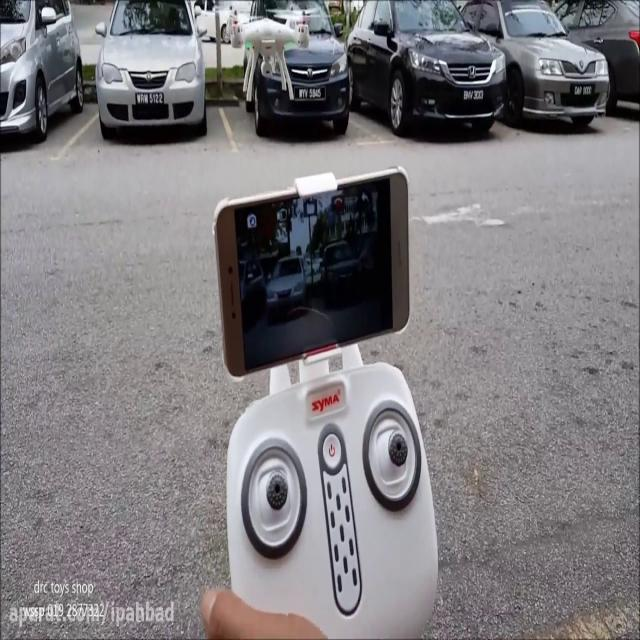drone: (217, 0, 331, 103)
